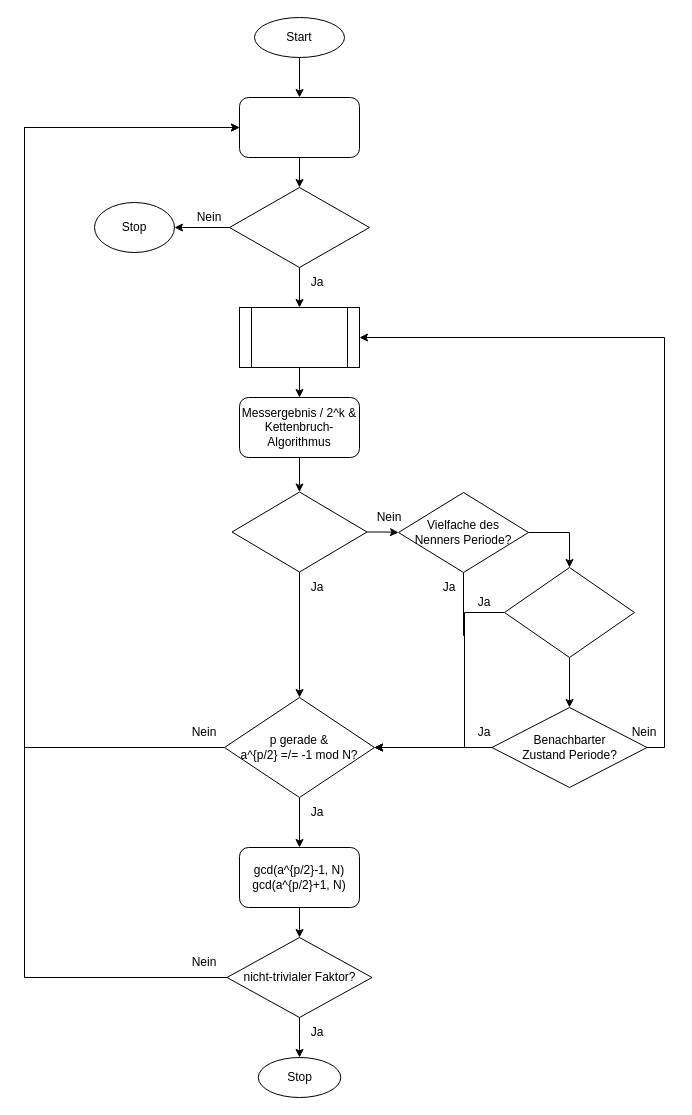
The diagram is 692 pixels wide and 1115 high, and some of its shapes have lost their labels. Here are the shapes that lost their labels. From the top down, the centre of each, then its label:
At pixel 299 127: "Wähle a mit a < N".
At pixel 299 227: "gcd(a, N)==1?".
At pixel 299 337: "Quanten-Phase-Estimation".
At pixel 299 531: "a^p = 1 mod N ?".
At pixel 569 612: "kgV Nenner vorheriger Messung Periode?".
